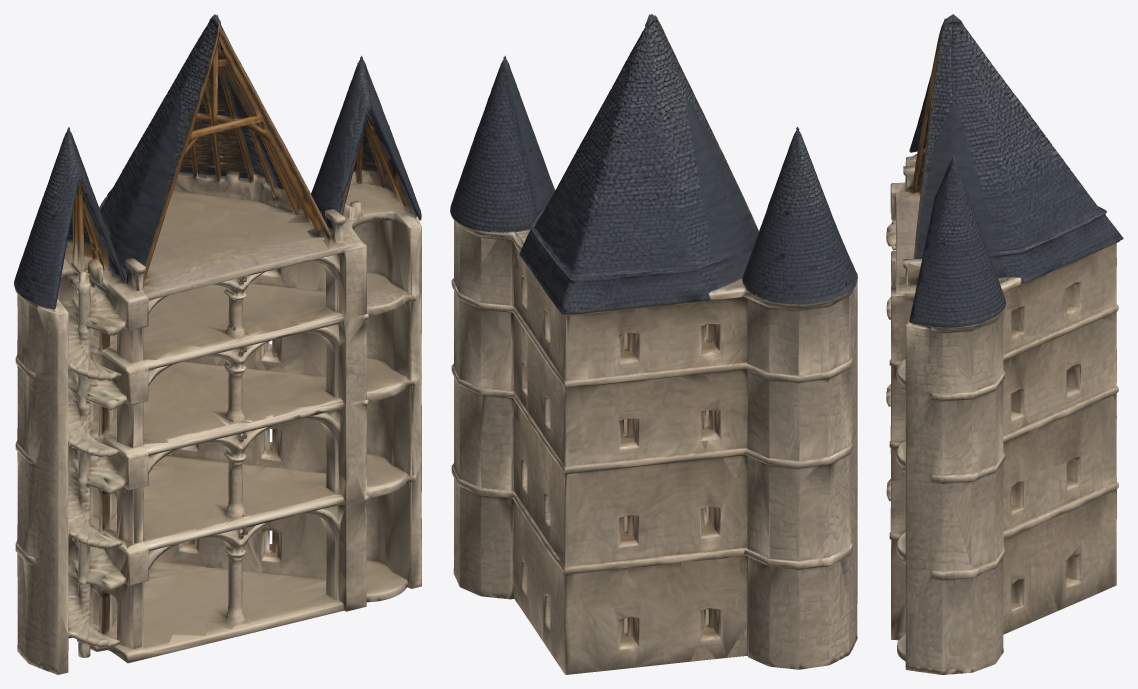
The model's file is temple-2271-technical-50m.glb.
The picture shows the model from 3 angles, left to right: view 1: azimuth 30°, elevation 25°; view 2: azimuth 150°, elevation 25°; view 3: azimuth 270°, elevation 25°; orthographic projection. The views are drawn at different scales.
Parts seen in each view (by area): view 1: tripo_node_78d4c29f-6245-45c2-9721-39ba4c93277b; view 2: tripo_node_78d4c29f-6245-45c2-9721-39ba4c93277b; view 3: tripo_node_78d4c29f-6245-45c2-9721-39ba4c93277b.
Part boxes in pixels (x1,y1,x2,y2): tripo_node_78d4c29f-6245-45c2-9721-39ba4c93277b: (14,14,421,674); tripo_node_78d4c29f-6245-45c2-9721-39ba4c93277b: (450,14,857,674); tripo_node_78d4c29f-6245-45c2-9721-39ba4c93277b: (886,14,1123,674).
Size of the model in its own units: 34.21 by 50 by 18.85.
1 material, 1 textured.
